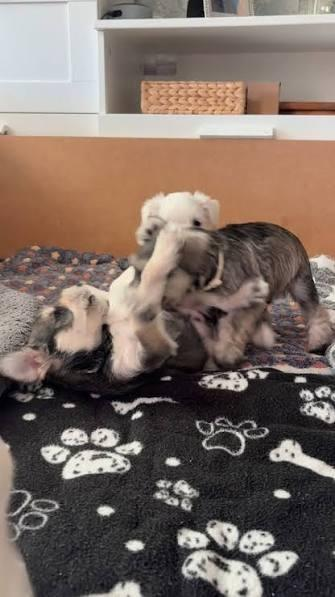adult_dog: (0, 252, 279, 397)
puppy-dog: (134, 219, 335, 354), (108, 190, 220, 308)
